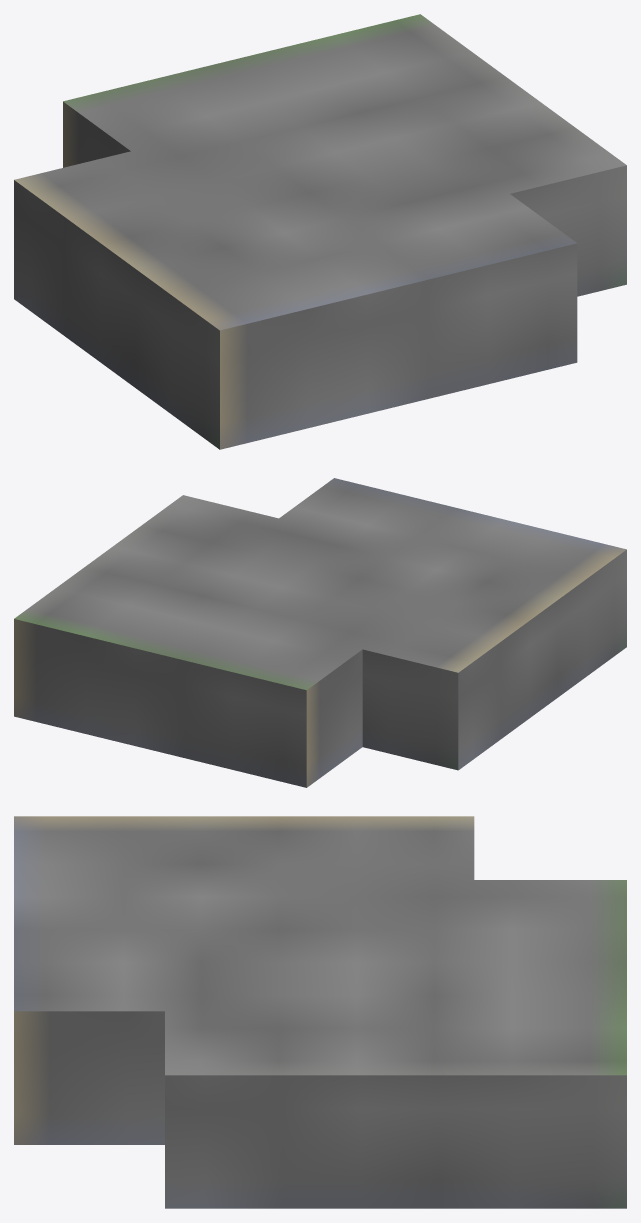
File: Stone_Destroy_Step5.fbx
The picture shows the model from 3 angles, top to bottom: view 1: azimuth 30°, elevation 25°; view 2: azimuth 150°, elevation 25°; view 3: azimuth 270°, elevation 25°; orthographic projection. The views are drawn at different scales.
Visible parts, largest first — view 1: Stone_Destroy_Step5; view 2: Stone_Destroy_Step5; view 3: Stone_Destroy_Step5.
Boxes of the visible parts, bbox=[...] form: Stone_Destroy_Step5: bbox=[14, 14, 626, 449]; Stone_Destroy_Step5: bbox=[14, 478, 626, 787]; Stone_Destroy_Step5: bbox=[14, 816, 626, 1208].
Bounding box in the file's own units: 25 × 6.01 × 25.
Materials: 1 (1 with a texture image).
